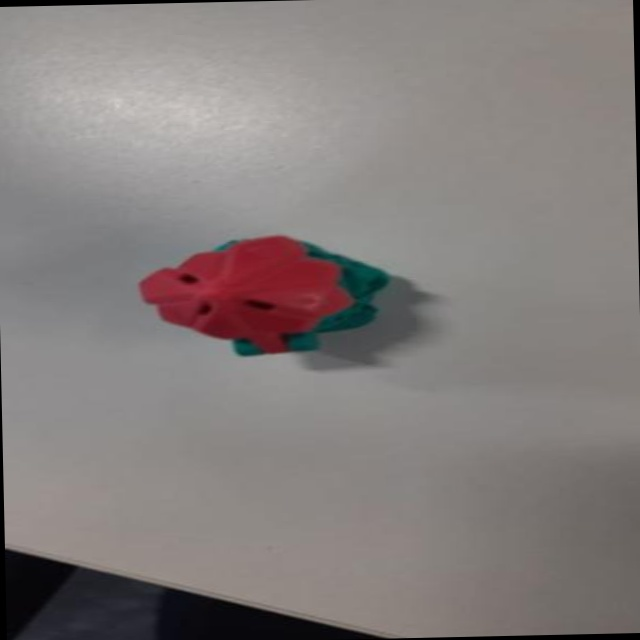House: (134, 232, 408, 361)
